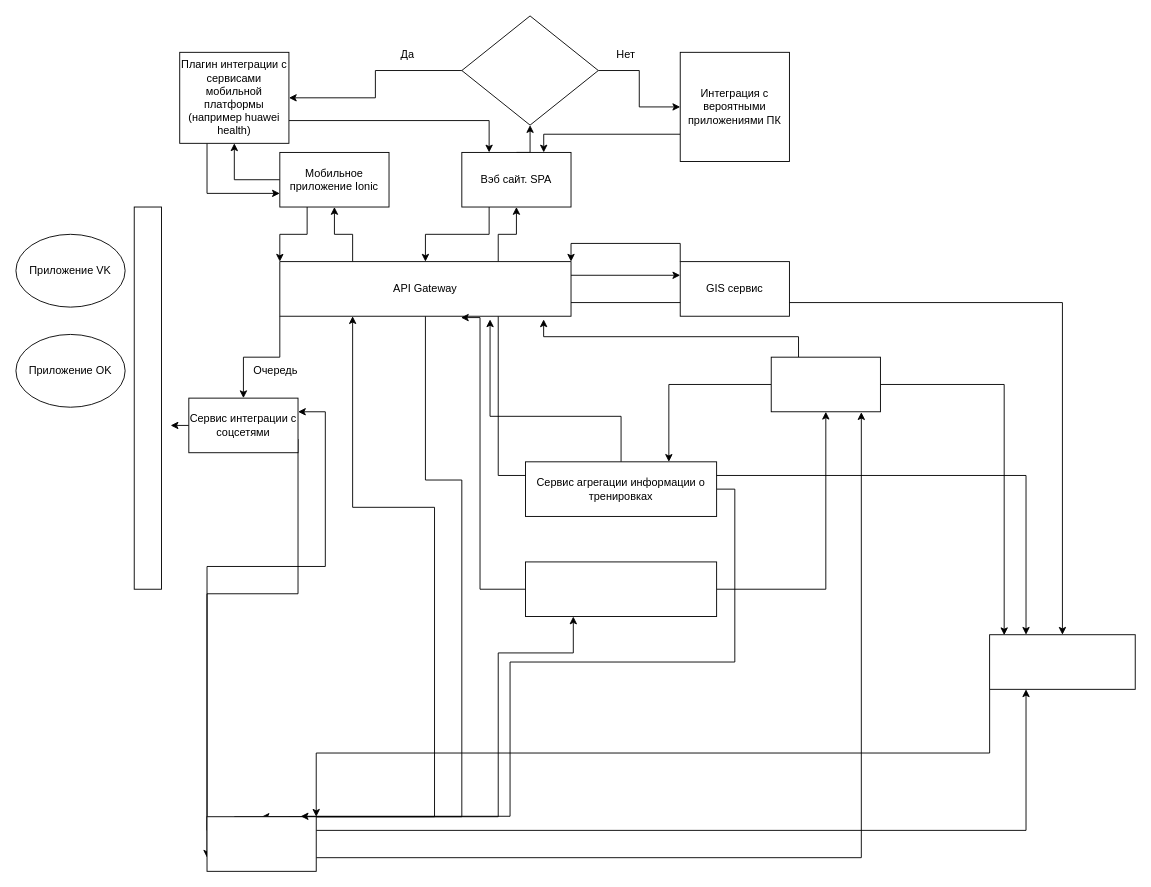
Some shapes in this 1151 by 887 pixel diagram are drawn without their labels. The centre of each missing label's shape, as x and y in pixels:
API gateway существующего магазина товаров: (x=1062, y=661)
Identity service: (x=261, y=843)
Мобильный телефон: (x=529, y=70)
Сервис конкурсов: (x=621, y=589)
Сервис социального взаимодействия: (x=825, y=384)
